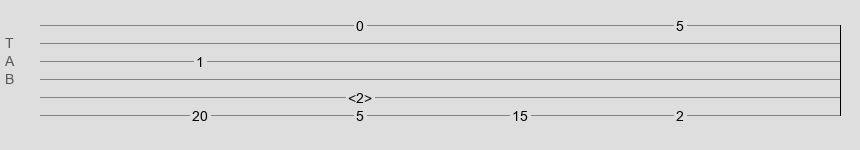0: (356, 18, 364, 28)
1: (196, 54, 204, 64)
15: (512, 108, 528, 118)
2: (676, 108, 684, 118)
20: (192, 108, 208, 118)
5: (356, 108, 364, 118), (676, 18, 684, 28)
harmonic: (348, 90, 372, 100)
